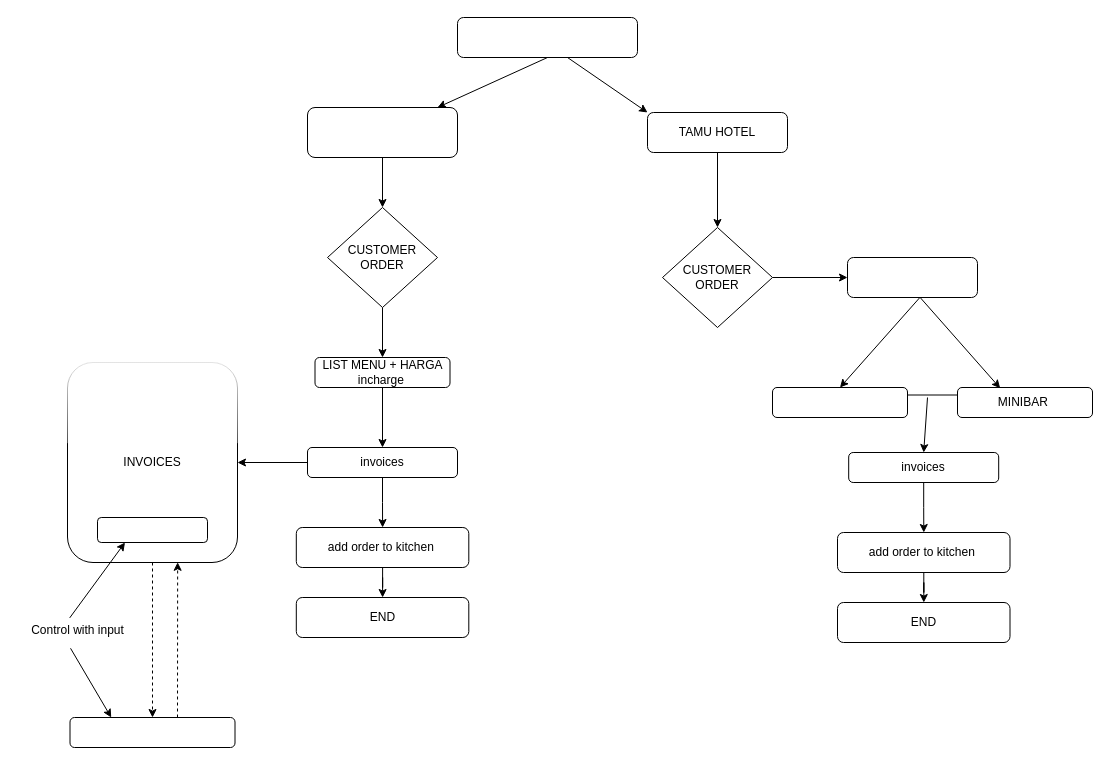
Image size: 1110x765. Some labels were removed from this diagram. The shapes that lost their labels are listed below. From the top down, each one's centre as x and y in pixels, then its label:
point (547, 37): TAMU ORDER
point (382, 132): TAMU INCHARGE
point (912, 277): INPUT NOMOR KAMAR
point (840, 402): LIST MENU + HARGA hotel
point (152, 529): KETERANGAN
point (152, 732): INPUT EXAMPLE
